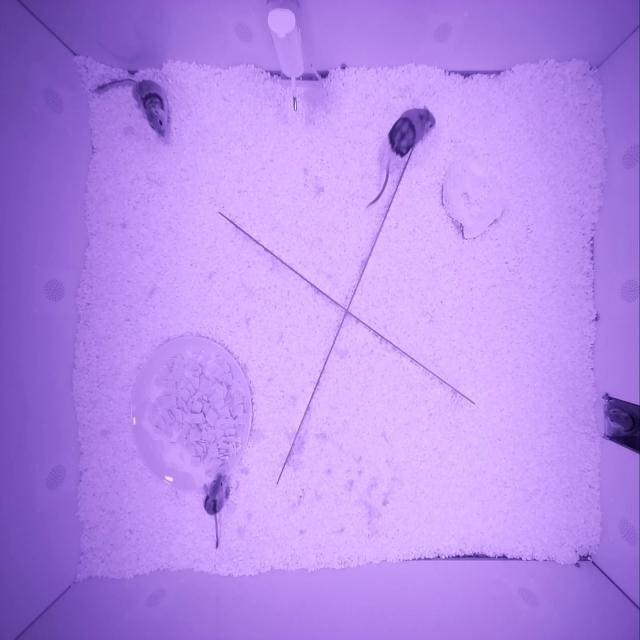adult_back: (386, 105, 436, 162)
adult_front: (132, 80, 168, 137)
pup_h_stripe: (604, 408, 639, 435)
pup_v_stripe: (203, 473, 226, 515)
